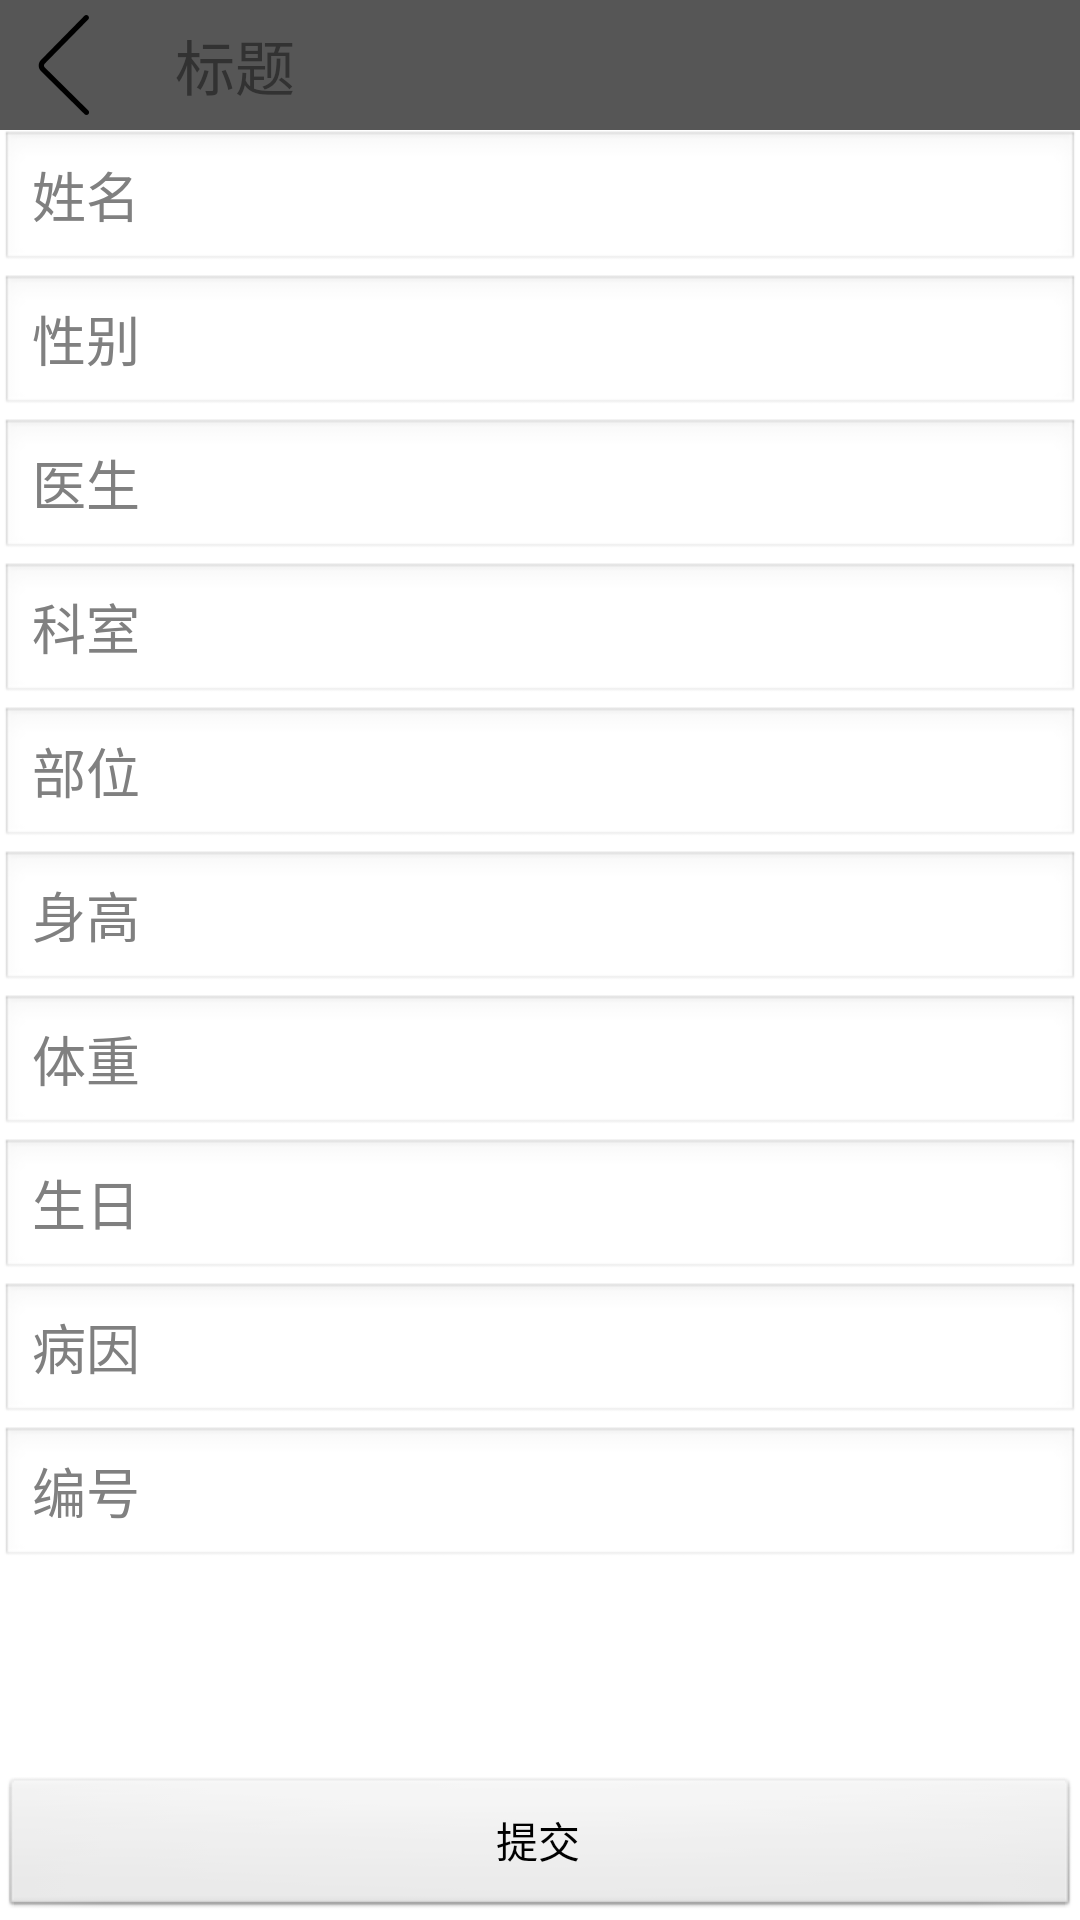

Screen size 1080x1920. Icon name, then its center in pixels as (x,y):
pre activity: (64,65)
